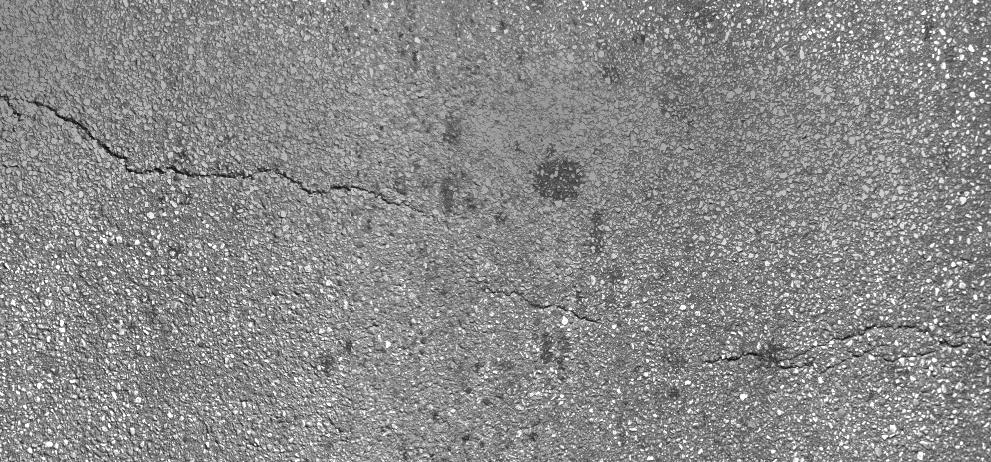crack: (5, 84, 430, 219), (702, 318, 974, 371), (478, 274, 606, 331)
